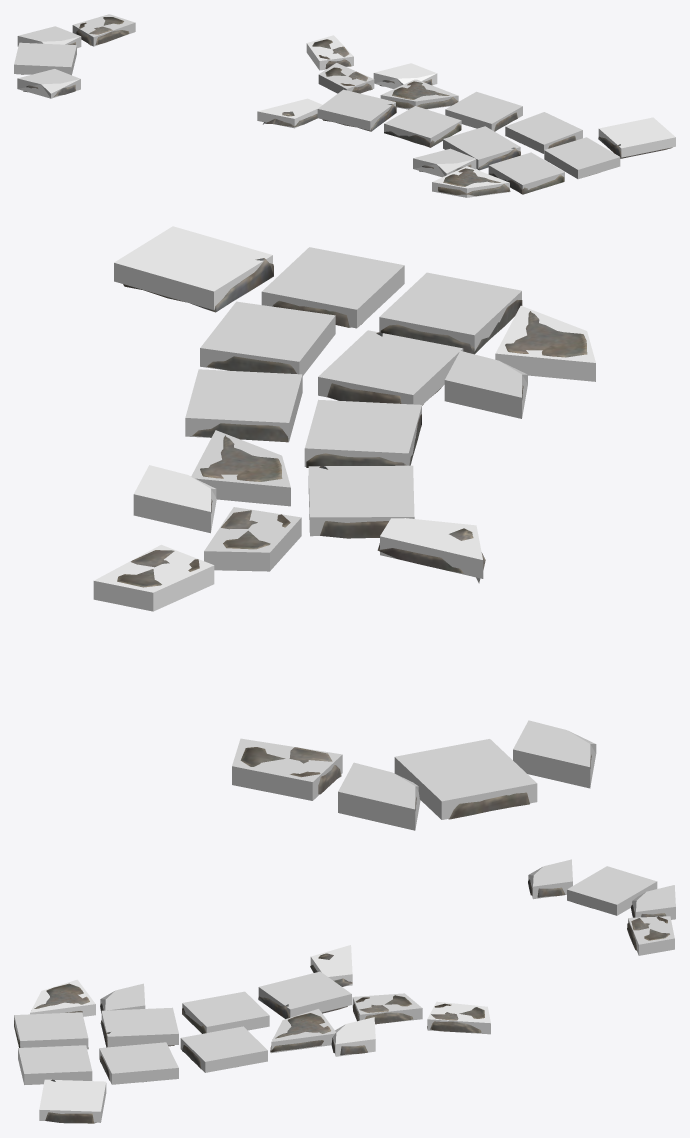
The model's file is Floor_C.fbx.
3 views of the same model, one above another, from view 1: azimuth 30°, elevation 25°; view 2: azimuth 150°, elevation 25°; view 3: azimuth 270°, elevation 25° (orthographic). The views are drawn at different scales.
Visible parts, largest first — view 1: Cube_5, Cube, Cube_1, Cube_7, Cube_8, Cube_6, Cube_3, Cube_4, Cube_2, Rock_A25_PZ_1, Rock_A25_PZ_3, Rock_A25_PZ (+15 smaller); view 2: Cube, Cube_5, Cube_6, Cube_2, Cube_7, Cube_4, Cube_8, Cube_3, Cube_1, Rock_A24_PZ, Rock_A25_PZ, Rock_A25_PZ_3 (+21 smaller); view 3: Cube_6, Cube_8, Cube_7, Cube_2, Cube_1, Cube_5, Cube_3, Cube_4, Cube, Rock_A24_PZ_2, Rock_A25_PZ, Rock_A25_PZ_1 (+13 smaller).
Part boxes in pixels (x1=…): Cube_5: x1=544, y1=137, x2=620, y2=179; Cube: x1=598, y1=117, x2=675, y2=157; Cube_1: x1=317, y1=89, x2=395, y2=130; Cube_7: x1=505, y1=112, x2=582, y2=153; Cube_8: x1=445, y1=91, x2=522, y2=130; Cube_6: x1=14, y1=42, x2=76, y2=75; Cube_3: x1=384, y1=106, x2=461, y2=142; Cube_4: x1=488, y1=152, x2=564, y2=189; Cube_2: x1=443, y1=126, x2=520, y2=168; Rock_A25_PZ_1: x1=17, y1=69, x2=80, y2=98; Rock_A25_PZ_3: x1=413, y1=148, x2=476, y2=177; Rock_A25_PZ: x1=373, y1=63, x2=437, y2=88; Cube: x1=114, y1=226, x2=272, y2=310; Cube_5: x1=261, y1=247, x2=404, y2=328; Cube_6: x1=394, y1=739, x2=537, y2=819; Cube_2: x1=318, y1=330, x2=463, y2=405; Cube_7: x1=200, y1=301, x2=335, y2=375; Cube_4: x1=379, y1=272, x2=521, y2=351; Cube_8: x1=185, y1=369, x2=302, y2=441; Cube_3: x1=304, y1=399, x2=421, y2=466; Cube_1: x1=308, y1=465, x2=414, y2=536; Rock_A24_PZ: x1=93, y1=544, x2=214, y2=611; Rock_A25_PZ: x1=133, y1=465, x2=216, y2=533; Rock_A25_PZ_3: x1=444, y1=351, x2=527, y2=418; Cube_6: x1=567, y1=866, x2=657, y2=915; Cube_8: x1=180, y1=1026, x2=267, y2=1072; Cube_7: x1=99, y1=1042, x2=178, y2=1084; Cube_2: x1=101, y1=1007, x2=178, y2=1047; Cube_1: x1=258, y1=971, x2=351, y2=1017; Cube_5: x1=18, y1=1045, x2=92, y2=1084; Cube_3: x1=182, y1=991, x2=269, y2=1032; Cube_4: x1=14, y1=1012, x2=88, y2=1049; Cube: x1=39, y1=1079, x2=106, y2=1122; Rock_A24_PZ_2: x1=628, y1=916, x2=674, y2=955; Rock_A25_PZ: x1=333, y1=1017, x2=375, y2=1056; Rock_A25_PZ_1: x1=528, y1=859, x2=572, y2=899.
Size of the model in its own units: 1.06 by 0.0333 by 1.18.
2 materials, 1 textured.
